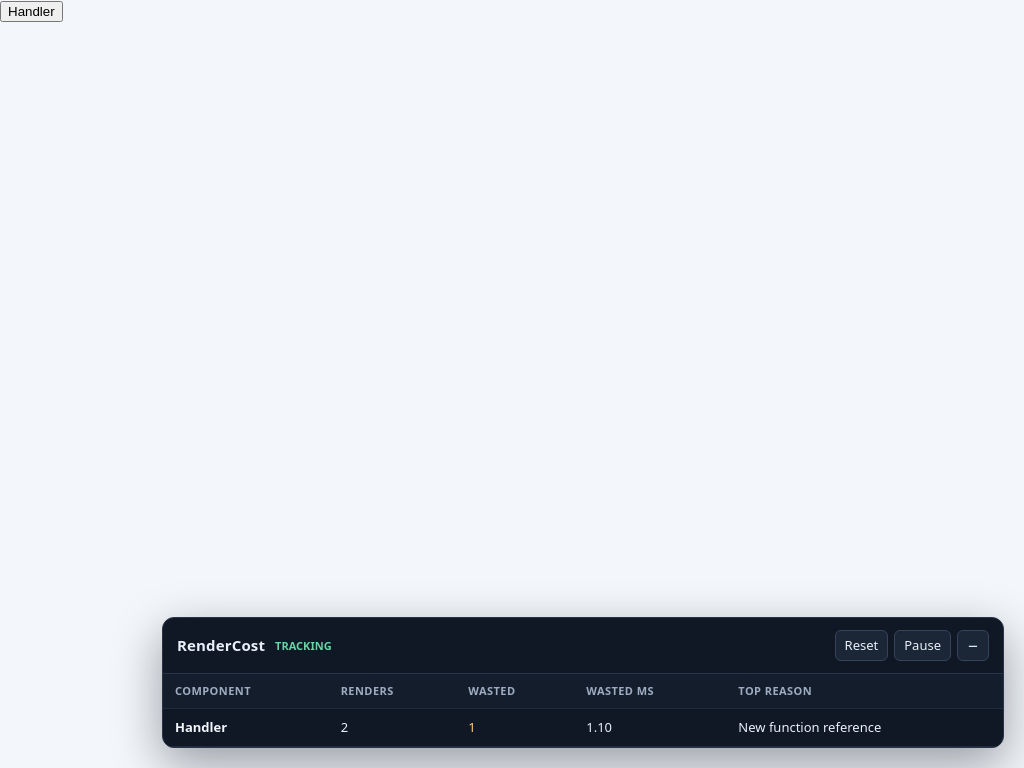
Test: RenderCostPanel › suggests the useCallback fix and copies the snippet
Click the row "Handler 2 1 1.10 New function reference" at coordinates (583, 728), box [163,709,1003,746]
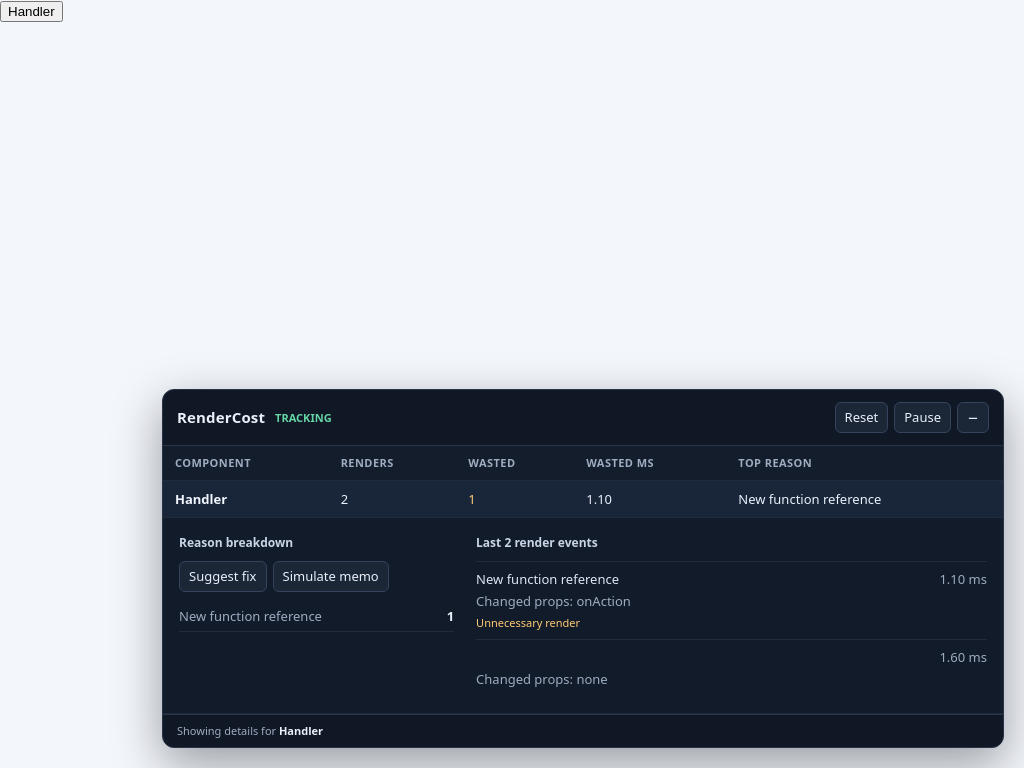
Click the button "Suggest fix" at coordinates (223, 576), box [179,561,266,592]
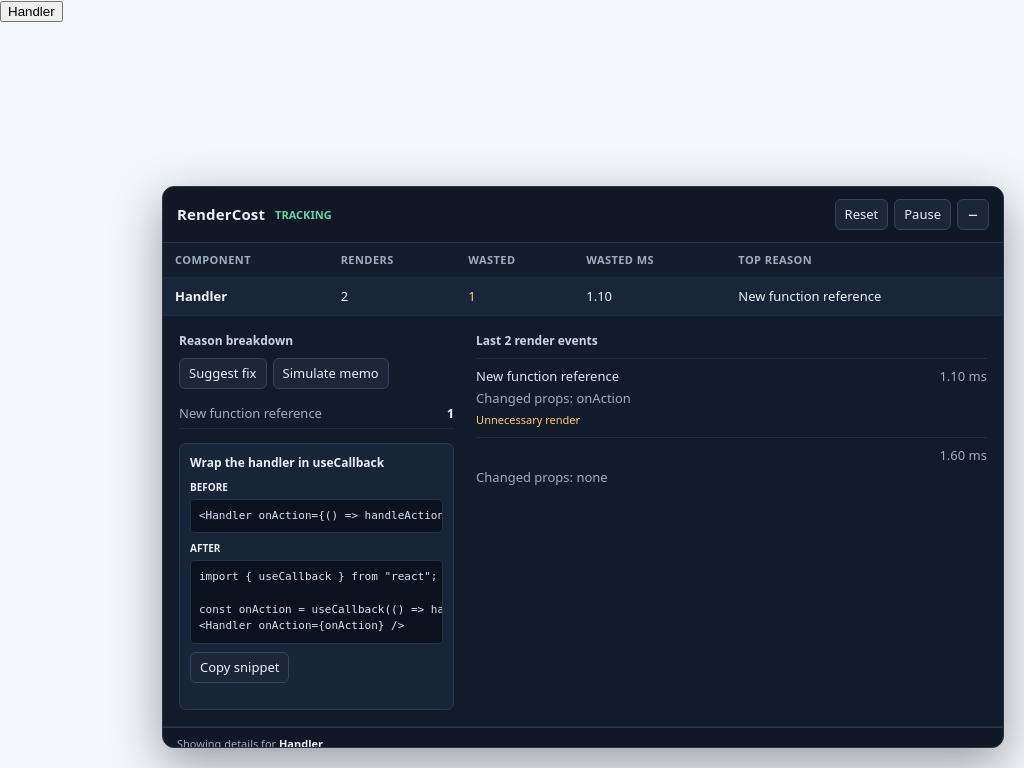
Now the heading "Wrap the handler in useCallback" is shown, box [190,454,384,471]
Now the text "<Handler onAction={() => handleAction()} />" is shown, box [199,509,443,522]
Click the button "Copy snippet" at coordinates (240, 667), box [190,652,290,683]
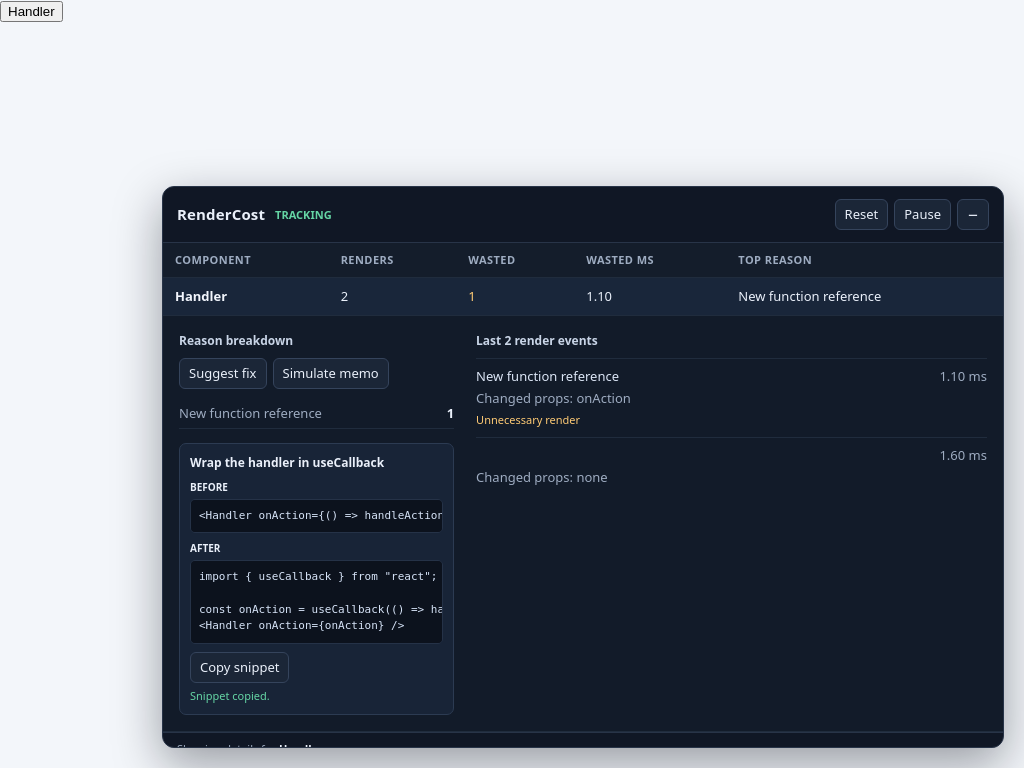
Now the text "Snippet copied." is shown, box [190,688,270,703]
